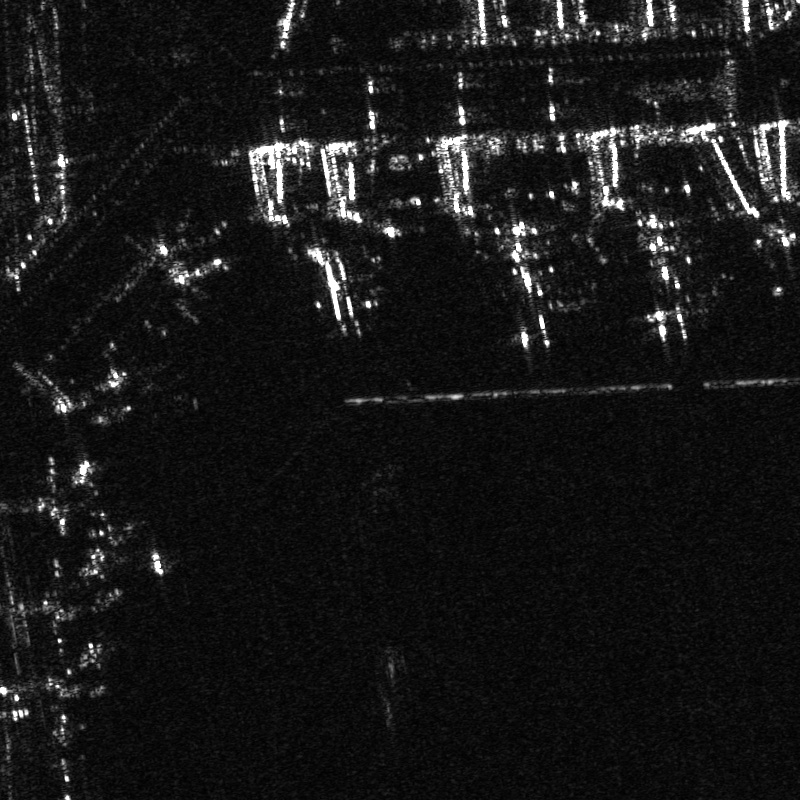A220: (289, 238, 385, 341)
A320/321: (29, 366, 142, 460)
Boeing737: (143, 239, 234, 310)
Boeing787: (458, 215, 566, 348)
other: (596, 204, 713, 337)
